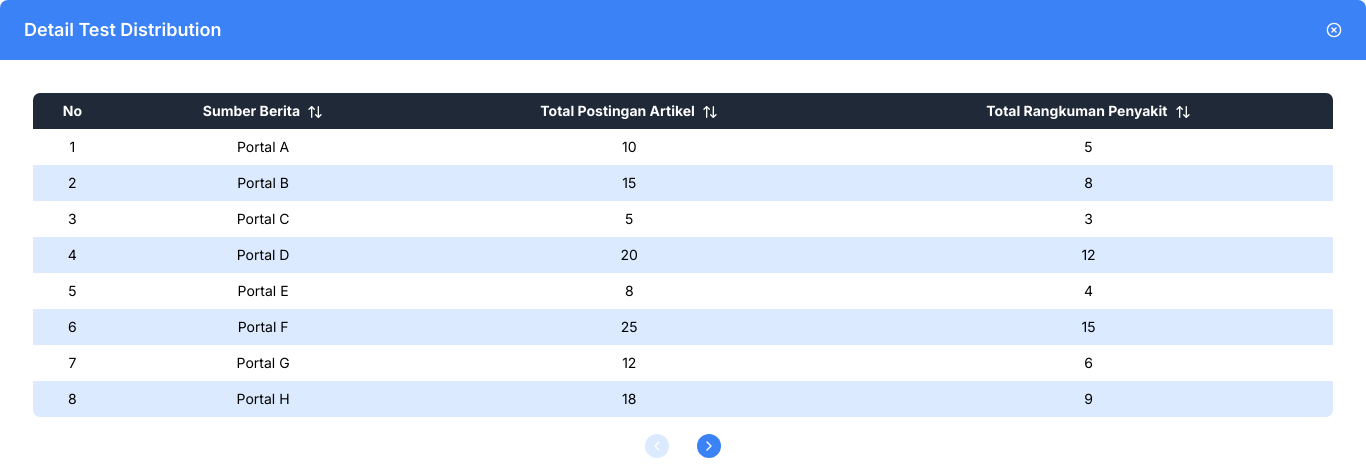
it: DetailDistribution Component › Sorting › sorts by disease_count when that header is clicked
Note: Click on disease_count header to sort
Click the column heading "Total Rangkuman Penyakit" at [1089, 111], box [844,92,1334,129]
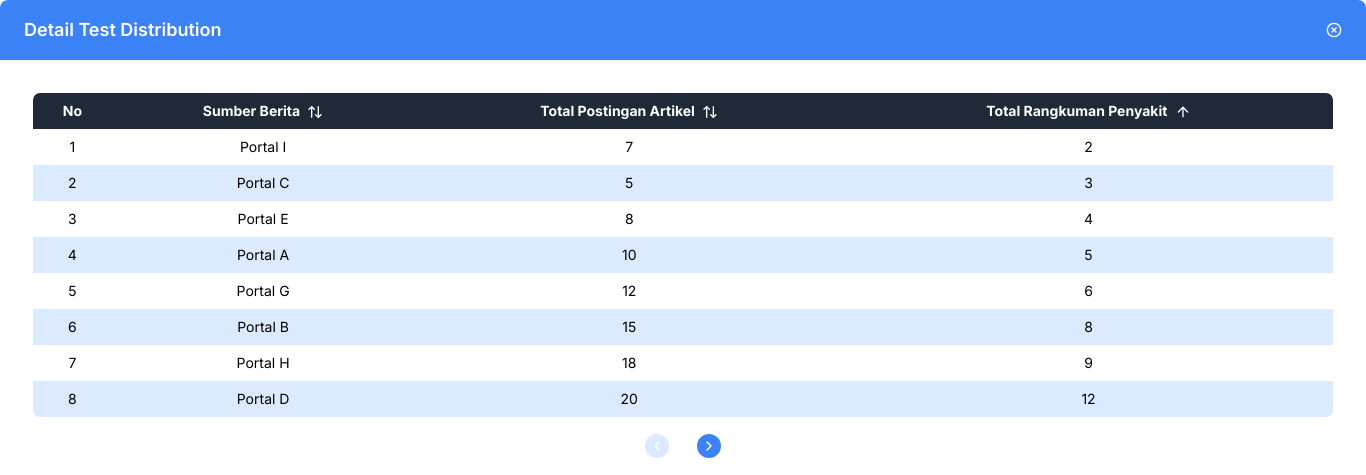
Expected: the row "1 Portal I 7 2" is shown, [32,129,1334,165]
